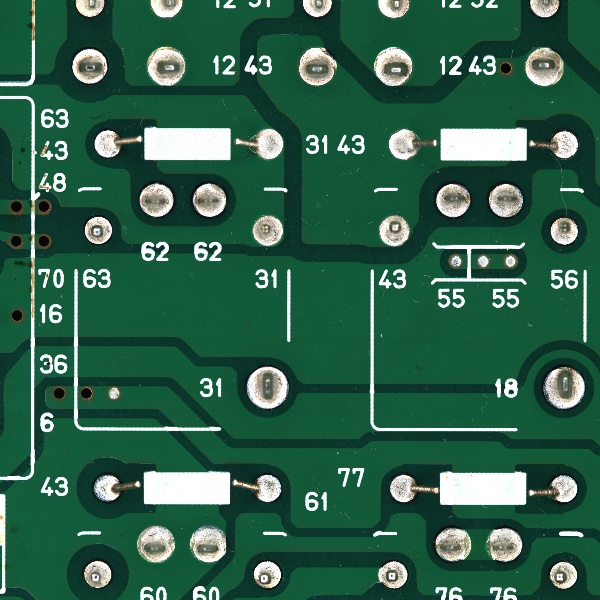Circle: (243, 363, 292, 416), (536, 364, 590, 412), (369, 43, 418, 93), (141, 43, 190, 91), (520, 43, 568, 92), (134, 520, 178, 566), (186, 520, 230, 566), (484, 176, 527, 223), (430, 523, 474, 568), (482, 522, 526, 567), (433, 177, 476, 223), (297, 43, 338, 89), (190, 179, 232, 222), (135, 179, 179, 220), (68, 46, 109, 88), (546, 123, 584, 167), (249, 469, 287, 510), (247, 126, 285, 166), (385, 126, 422, 166), (544, 472, 582, 510), (248, 212, 287, 249), (385, 468, 423, 505), (375, 211, 411, 250), (544, 212, 580, 251), (87, 125, 125, 160), (88, 470, 125, 505), (79, 212, 115, 247), (250, 557, 283, 591), (547, 559, 580, 592), (81, 558, 113, 592), (376, 557, 408, 591)
